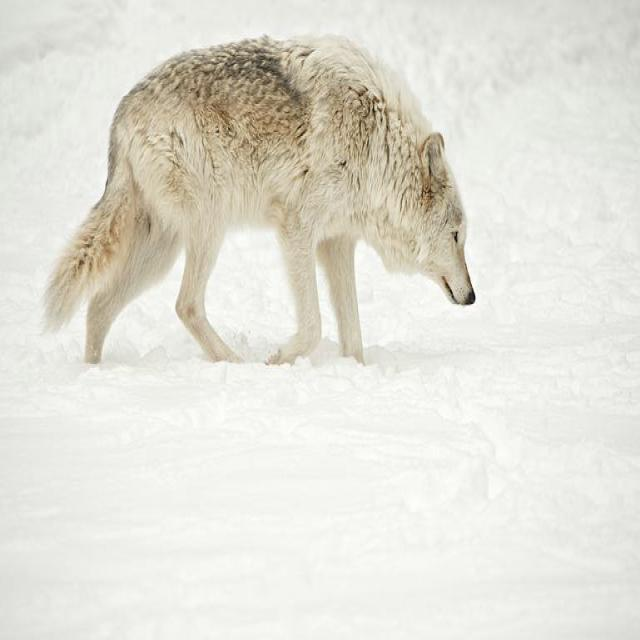wolf: (44, 36, 474, 363)
